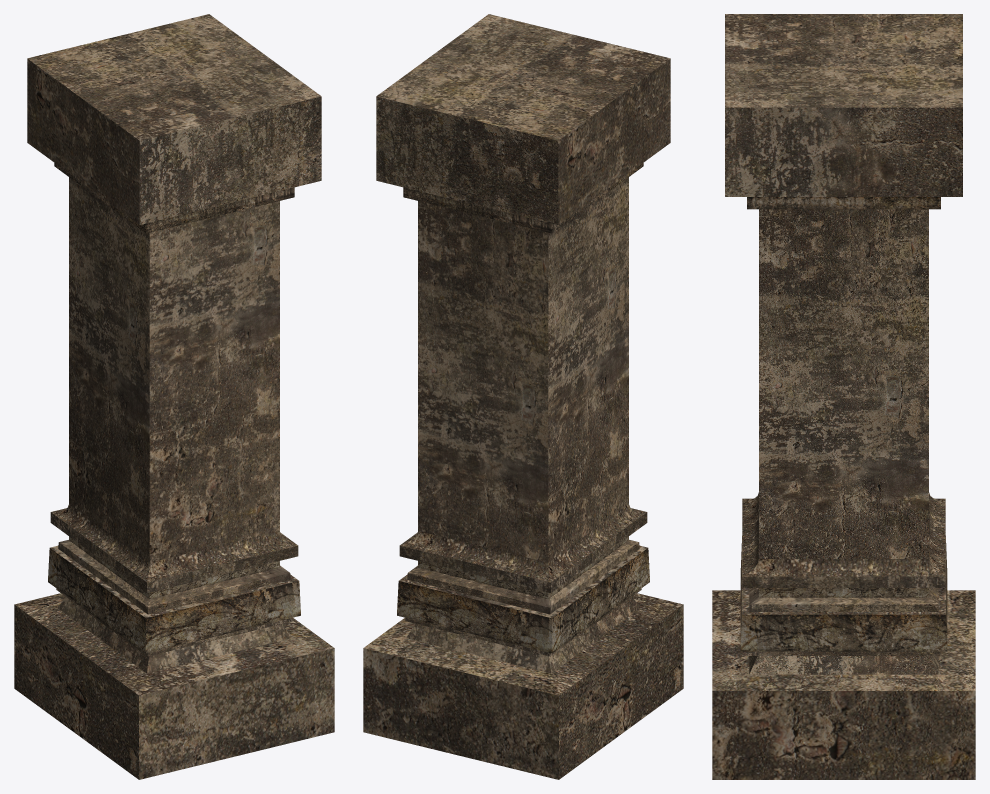
File: materials_5_pillar_short_11.fbx
3 renders of one model, left to right at view 1: azimuth 30°, elevation 25°; view 2: azimuth 150°, elevation 25°; view 3: azimuth 270°, elevation 25°, orthographic. The views are drawn at different scales.
Visible parts, largest first — view 1: materials_5_pillar_short_11; view 2: materials_5_pillar_short_11; view 3: materials_5_pillar_short_11.
Boxes of the visible parts, x1,y1,x2,y2 form: materials_5_pillar_short_11: (14, 14, 334, 779); materials_5_pillar_short_11: (363, 14, 683, 779); materials_5_pillar_short_11: (712, 14, 975, 779).
Bounding box in the file's own units: 27.23 × 84.31 × 30.08.
